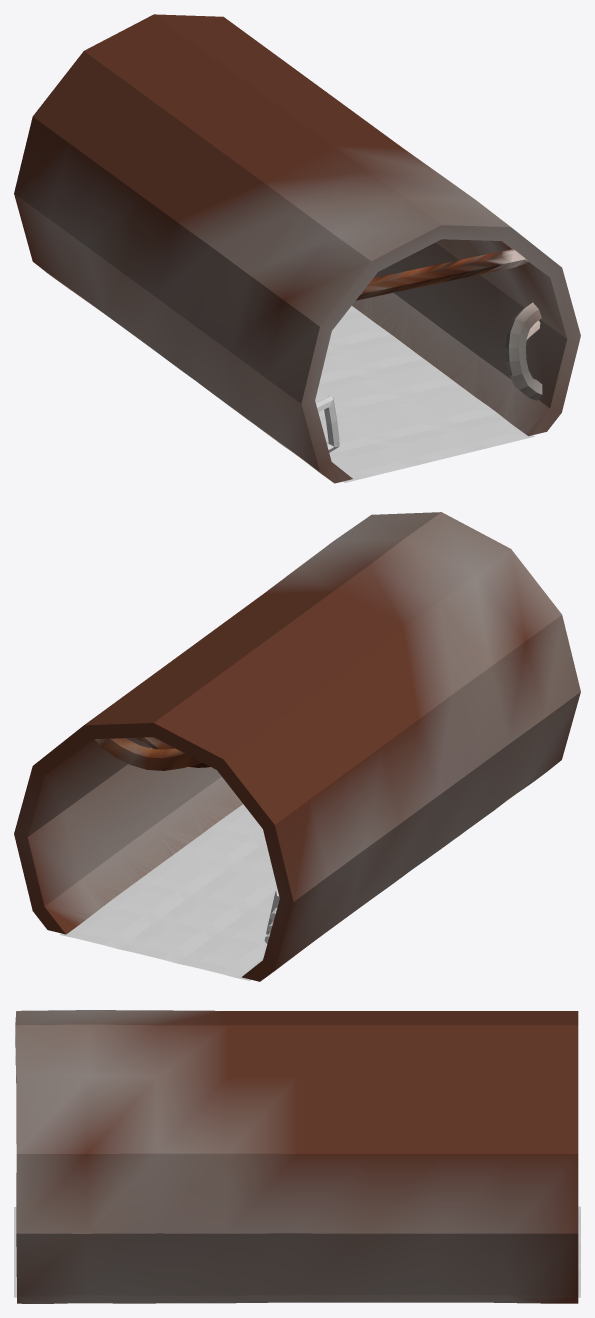
Rendered from Tunnel(2).fbx.
3 renders of one model, top to bottom at view 1: azimuth 30°, elevation 25°; view 2: azimuth 150°, elevation 25°; view 3: azimuth 270°, elevation 25°, orthographic. The views are drawn at different scales.
Visible parts, largest first — view 1: Cylindre 3, Cylindre 2, Tube 12, Tube 6, Tube 7; view 2: Cylindre 3, Cylindre 2, Tube 3; view 3: Cylindre 3, Cylindre 2.
Part boxes in pixels (x1=…): Cylindre 3: x1=14, y1=14, x2=580, y2=483; Cylindre 2: x1=315, y1=306, x2=534, y2=482; Tube 12: x1=356, y1=249, x2=528, y2=300; Tube 6: x1=505, y1=302, x2=542, y2=400; Tube 7: x1=316, y1=395, x2=339, y2=452; Cylindre 3: x1=14, y1=512, x2=580, y2=981; Cylindre 2: x1=60, y1=804, x2=277, y2=980; Tube 3: x1=95, y1=738, x2=201, y2=770; Cylindre 3: x1=15, y1=1010, x2=578, y2=1303; Cylindre 2: x1=14, y1=1206, x2=580, y2=1297.
Size of the model in its own units: 4.55 by 3.65 by 8.18.
